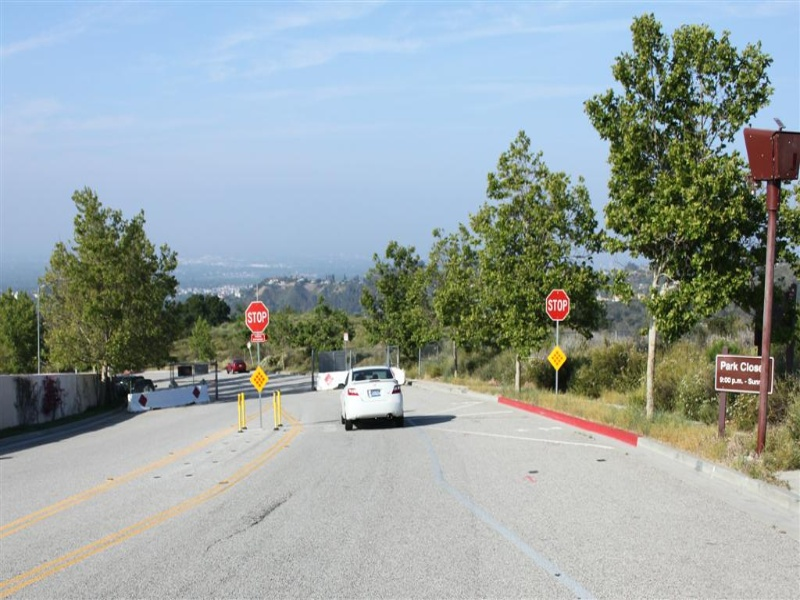stop sign: (542, 287, 573, 323), (243, 300, 270, 333)
